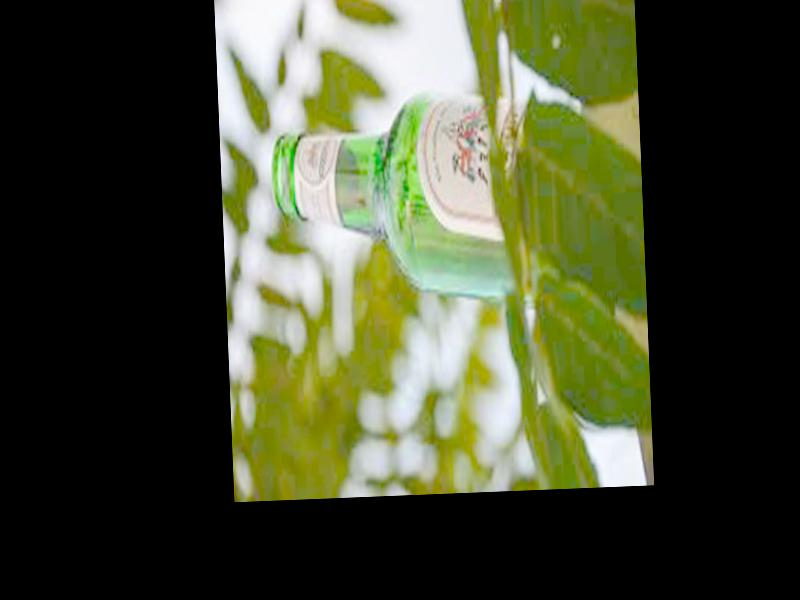Beer: (269, 91, 538, 304)
